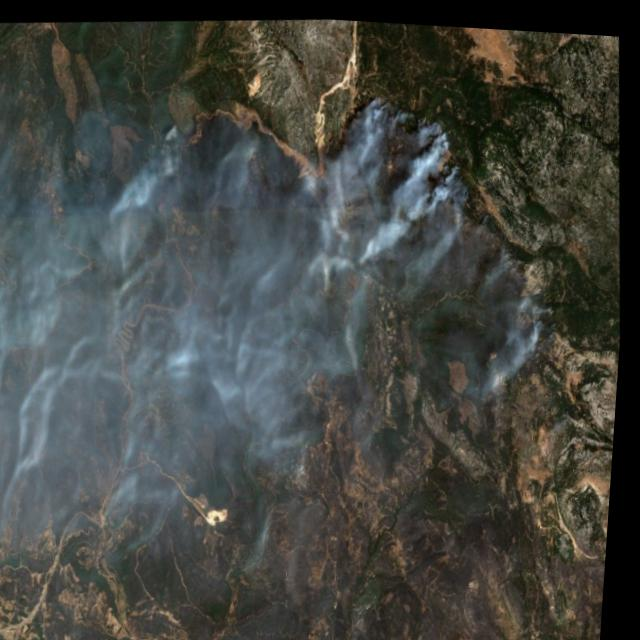fire: (96, 84, 283, 283), (335, 67, 486, 247)
